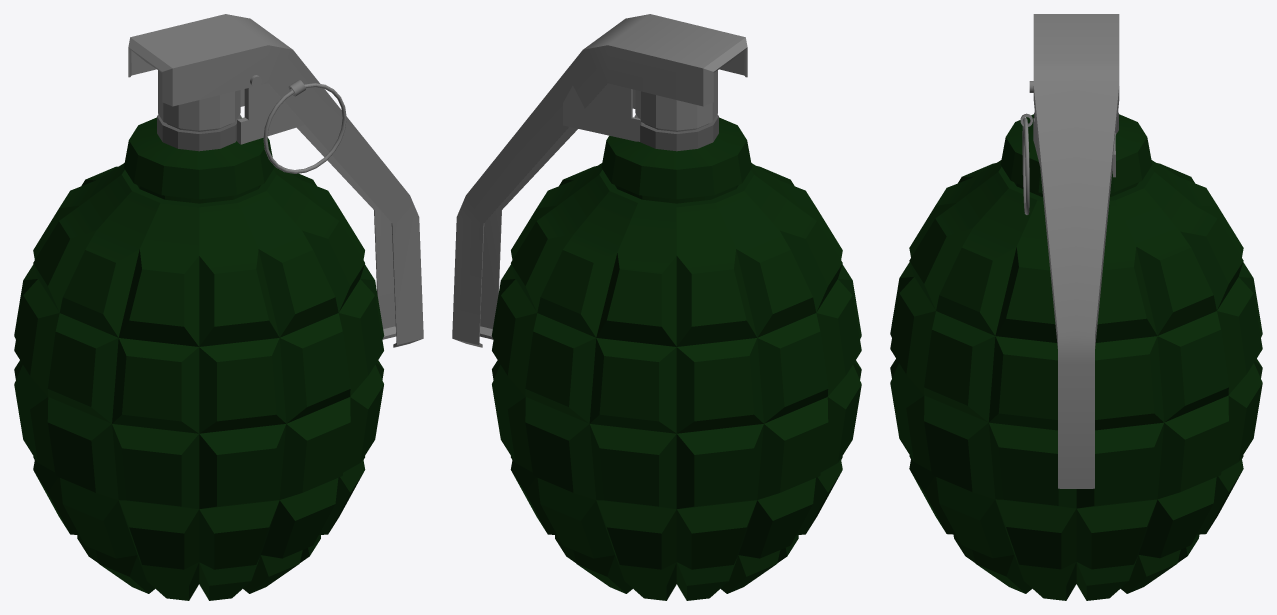
The model's file is Granate.fbx.
3 renders of one model, left to right at view 1: azimuth 30°, elevation 25°; view 2: azimuth 150°, elevation 25°; view 3: azimuth 270°, elevation 25°, orthographic.
Visible parts, largest first — view 1: Granate; view 2: Granate; view 3: Granate.
Boxes of the visible parts, bbox=[...] form: Granate: bbox=[14, 14, 423, 600]; Granate: bbox=[452, 14, 861, 600]; Granate: bbox=[890, 14, 1262, 600].
Bounding box in the file's own units: 2.49 × 3.32 × 2.12.
